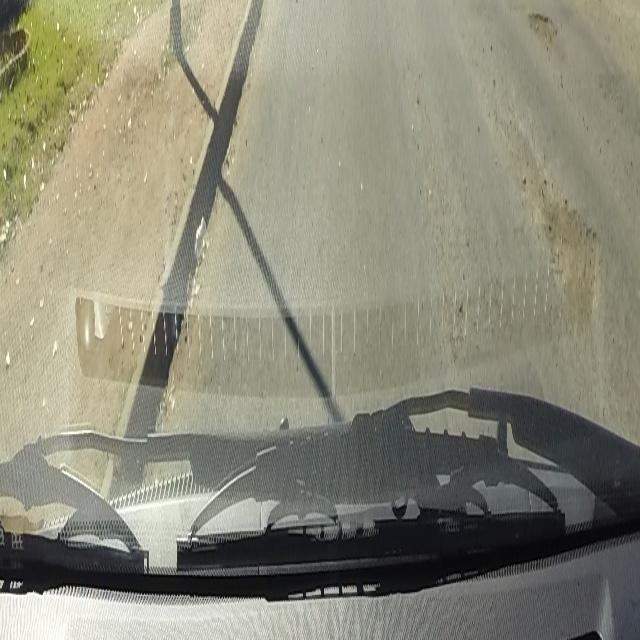pothole: (514, 165, 612, 319), (527, 5, 557, 45)
